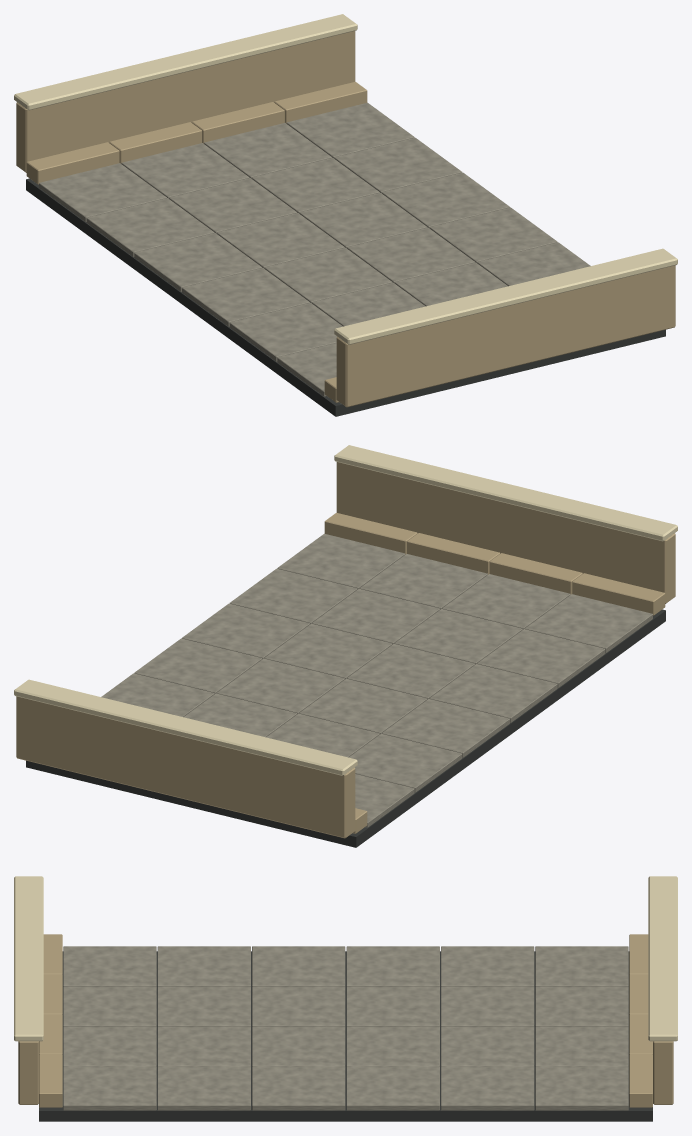
File: road_guarded_512.glb
The picture shows the model from 3 angles, top to bottom: view 1: azimuth 30°, elevation 25°; view 2: azimuth 150°, elevation 25°; view 3: azimuth 270°, elevation 25°; orthographic projection.
Parts seen in each view (by area): view 1: Roman parapet, Roman parapet.001, Parapet coping, Parapet coping.001, Road foundation, Cast concrete slab.004, Cast concrete slab.003, Cast concrete slab.005, Cast concrete slab.002, Cast concrete slab.014, Cast concrete slab.015, Cast concrete slab.020 (+18 smaller); view 2: Roman parapet.001, Roman parapet, Parapet coping, Parapet coping.001, Road foundation, Cast concrete slab.001, Cast concrete slab, Cast concrete slab.002, Cast concrete slab.003, Cast concrete slab.015, Cast concrete slab.014, Cast concrete slab.021 (+18 smaller); view 3: Road foundation, Parapet coping, Parapet coping.001, Cast concrete slab.018, Cast concrete slab.019, Cast concrete slab.020, Cast concrete slab.021, Cast concrete slab.022, Cast concrete slab.023, Cast concrete slab, Cast concrete slab.005, Cast concrete slab.006 (+25 smaller).
Boxes of the visible parts, x1,y1,x2,y2 form: Roman parapet: (336,265,675,407); Roman parapet.001: (16,31,355,172); Parapet coping: (334,248,677,344); Parapet coping.001: (14,14,357,110); Road foundation: (26,178,665,416); Cast concrete slab.004: (86,198,214,257); Cast concrete slab.003: (134,233,262,291); Cast concrete slab.005: (39,163,166,222); Cast concrete slab.002: (182,268,309,326); Cast concrete slab.014: (347,227,475,283); Cast concrete slab.015: (299,192,427,248); Cast concrete slab.020: (429,207,557,262); Roman parapet.001: (16,696,355,838); Roman parapet: (336,462,675,603); Parapet coping: (334,445,677,541); Parapet coping.001: (14,679,357,775); Road foundation: (26,609,665,847); Cast concrete slab.001: (477,629,605,688); Cast concrete slab: (525,594,652,653); Cast concrete slab.002: (429,664,557,722); Cast concrete slab.003: (382,699,509,757); Cast concrete slab.015: (216,658,344,714); Cast concrete slab.014: (264,623,392,679); Cast concrete slab.021: (134,638,262,693); Road foundation: (39,951,652,1121); Parapet coping: (14,876,43,1041); Parapet coping.001: (648,876,677,1041); Cast concrete slab.018: (63,1066,156,1110); Cast concrete slab.019: (157,1066,250,1110); Cast concrete slab.020: (252,1066,345,1110); Cast concrete slab.021: (346,1066,439,1110); Cast concrete slab.022: (441,1066,534,1110); Cast concrete slab.023: (535,1066,628,1110); Cast concrete slab: (63,946,156,986); Cast concrete slab.005: (535,946,628,986); Cast concrete slab.006: (63,986,156,1026).
Bounding box in the file's own units: 512 × 129 × 900.
4 materials, 1 textured.
